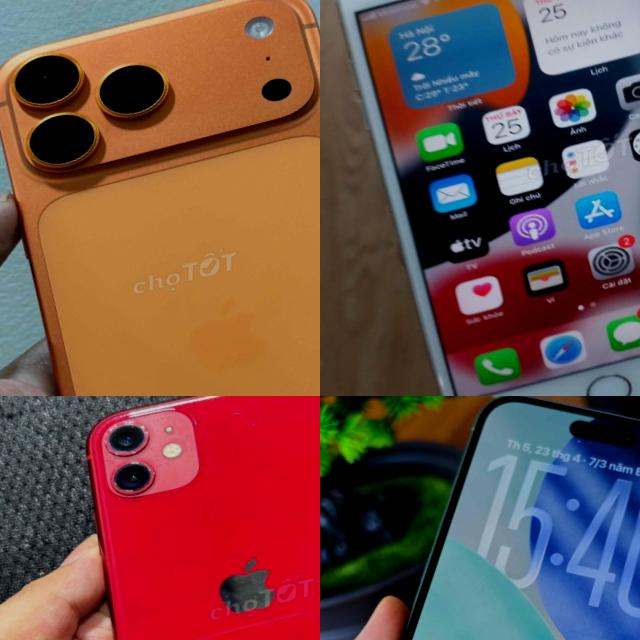scratch: (83, 448, 164, 514), (90, 414, 157, 464)
